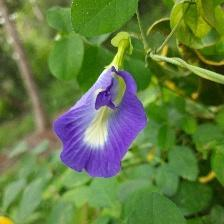shankupushpam: (50, 65, 153, 181)
